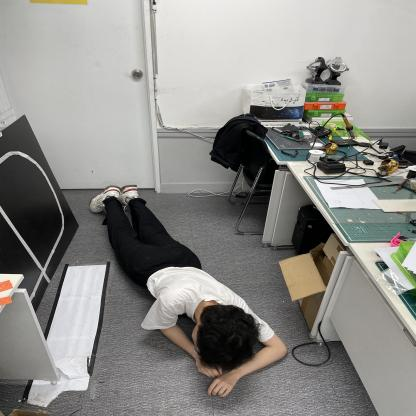fall: (90, 184, 290, 396)
